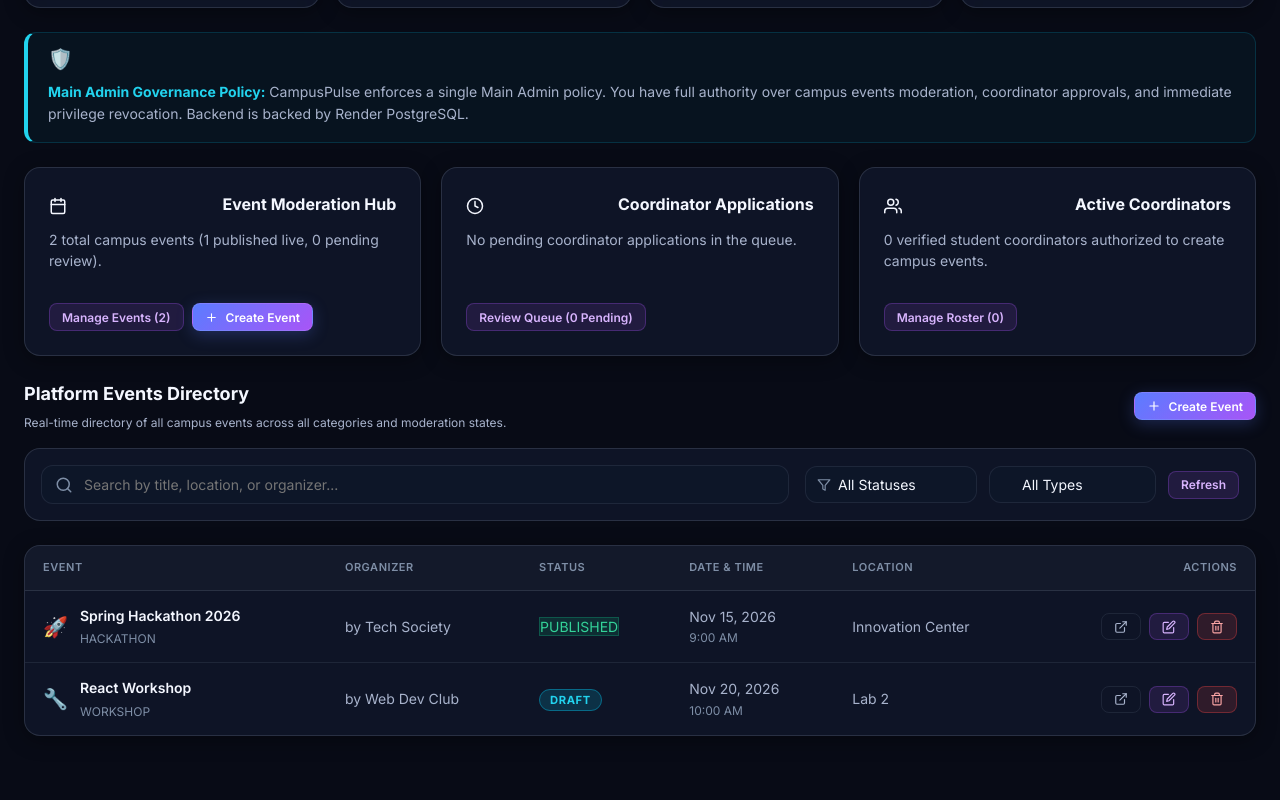
Test: AdminDashboardPage Component › filters events when searching in search bar
(page scrolled)
expect the text "Spring Hackathon 2026" is shown: met, box [80, 605, 240, 627]
expect the text "React Workshop" is shown: met, box [80, 678, 191, 700]
Type "React" into the field with placeholder "Search by title, location, or organizer..." at (415, 485), box [41, 465, 789, 504]
(page scrolled)
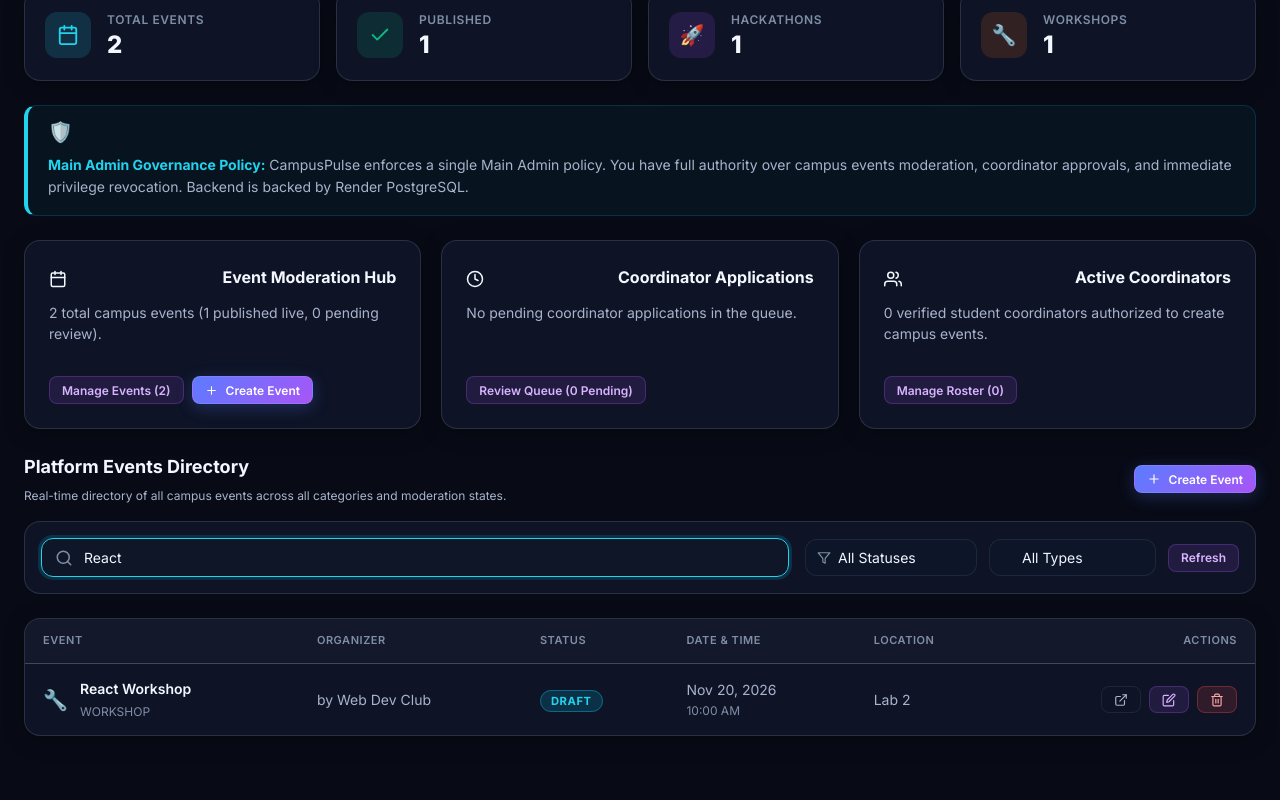
expect the text "React Workshop" is shown: met, box [80, 678, 191, 700]
expect the text "Spring Hackathon 2026" is gone: met
